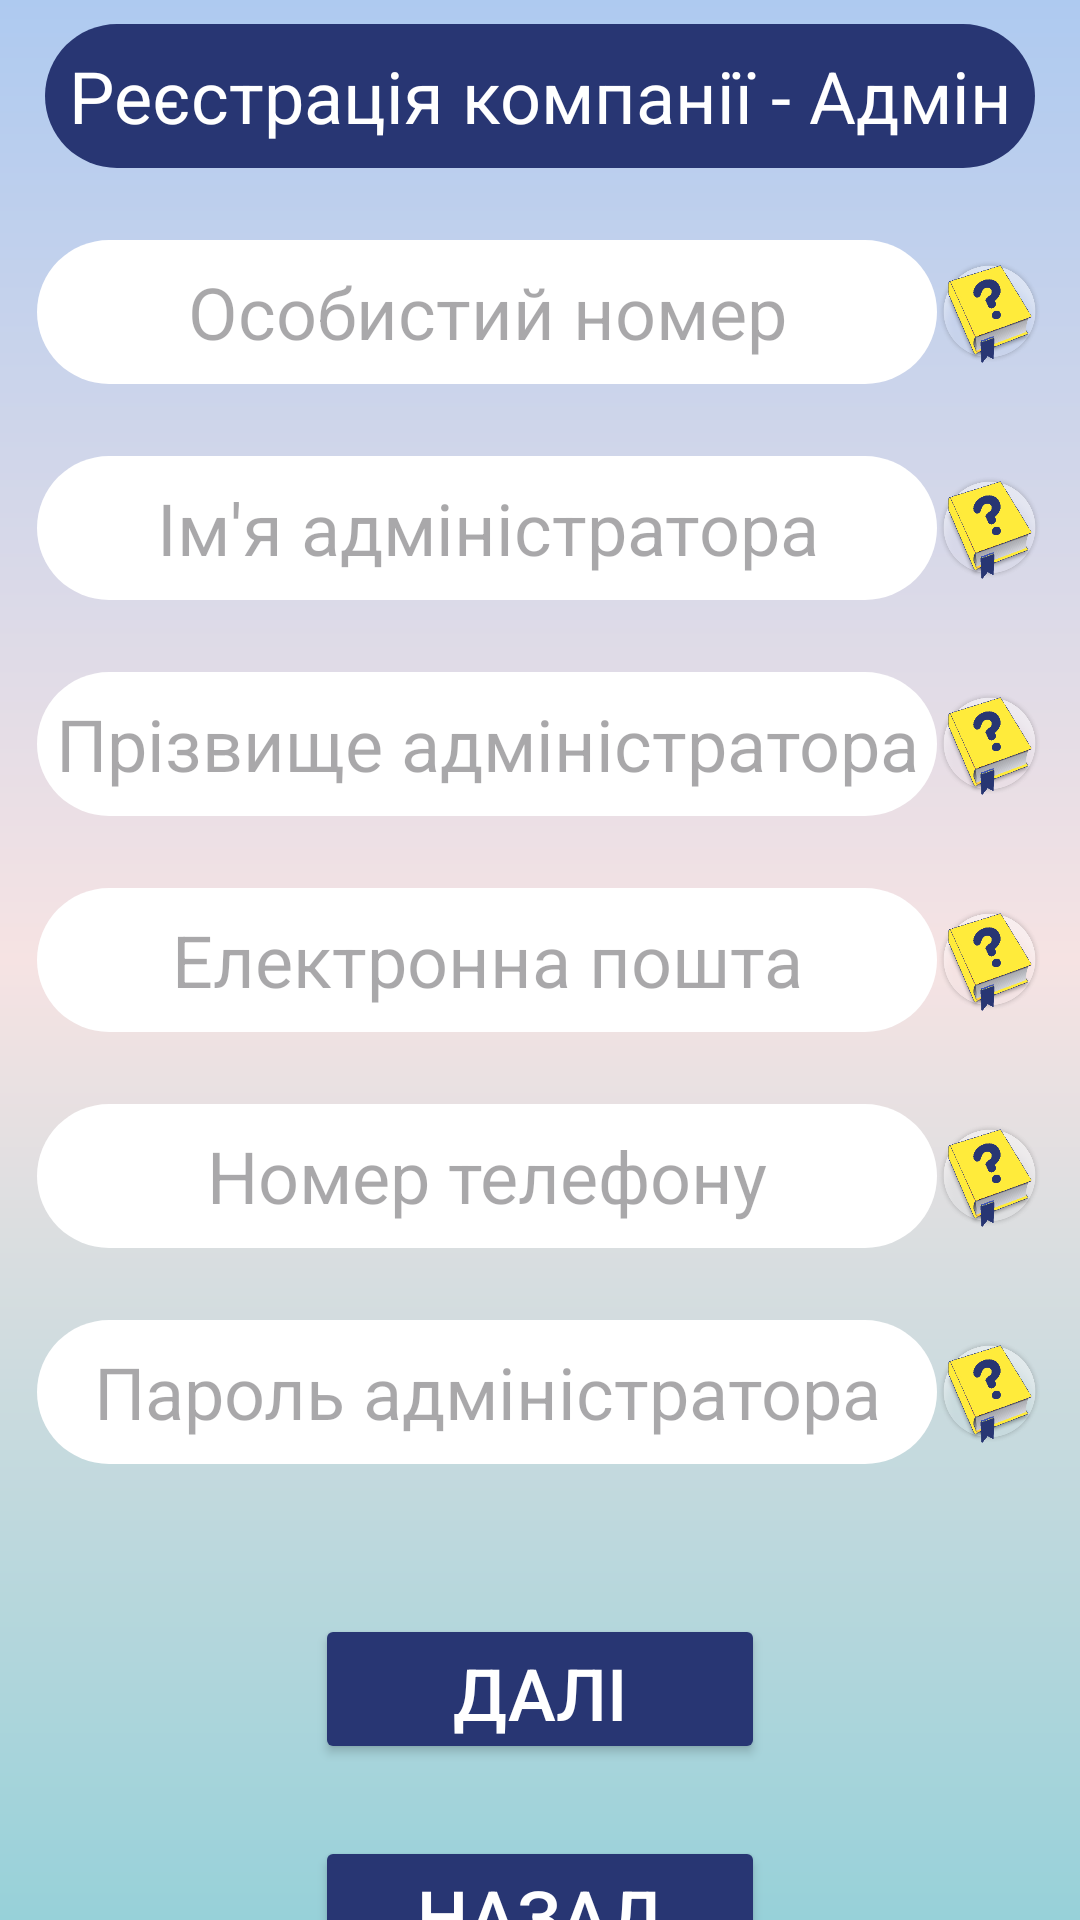

Locate icon controls on the screen. Image size 1080px×1920px, boxes as (left=x1, top=y1, right=x2, bottom=y2).
help: (left=944, top=265, right=1033, bottom=363), (left=944, top=481, right=1033, bottom=579), (left=944, top=697, right=1033, bottom=795), (left=944, top=913, right=1033, bottom=1011), (left=948, top=1129, right=1031, bottom=1227), (left=948, top=1345, right=1031, bottom=1443)
